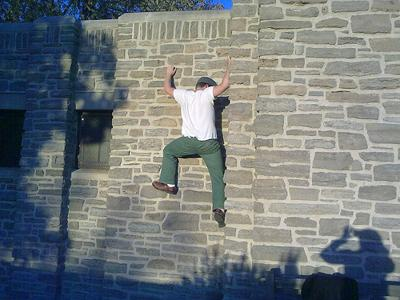person: (152, 56, 230, 229)
